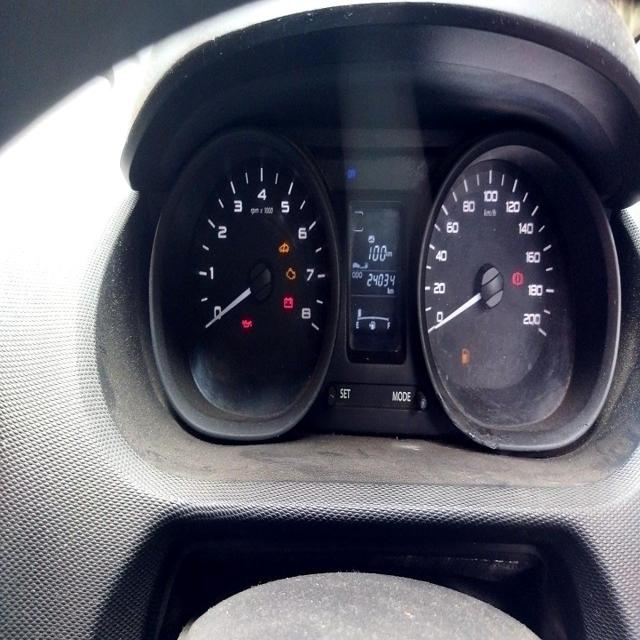odometer: (364, 271, 395, 288)
